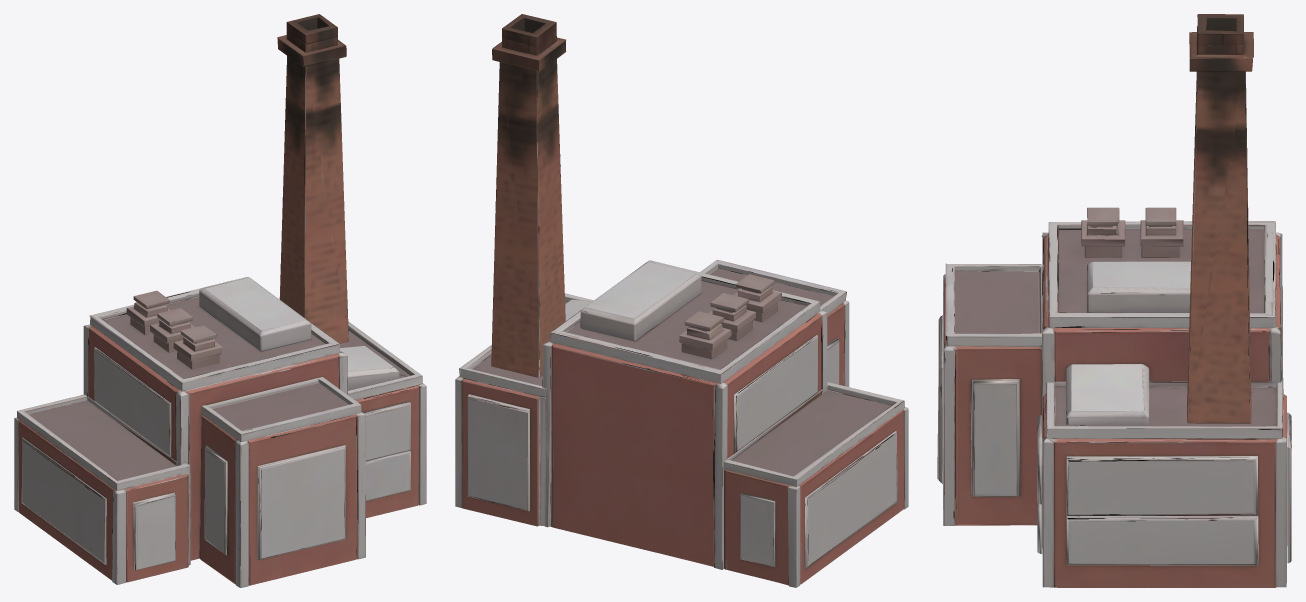
The model's file is 19-factory-with-chimney.glb.
3 renders of one model, left to right at view 1: azimuth 30°, elevation 25°; view 2: azimuth 150°, elevation 25°; view 3: azimuth 270°, elevation 25°, orthographic. The views are drawn at different scales.
Parts seen in each view (by area): view 1: geometry_0; view 2: geometry_0; view 3: geometry_0.
Part boxes in pixels (x1,y1,x2,y2): geometry_0: (14, 14, 426, 587); geometry_0: (455, 14, 908, 587); geometry_0: (937, 14, 1291, 587).
Size of the model in its own units: 0.7349 by 0.9531 by 0.5688.
Materials: 1 (1 with a texture image).
